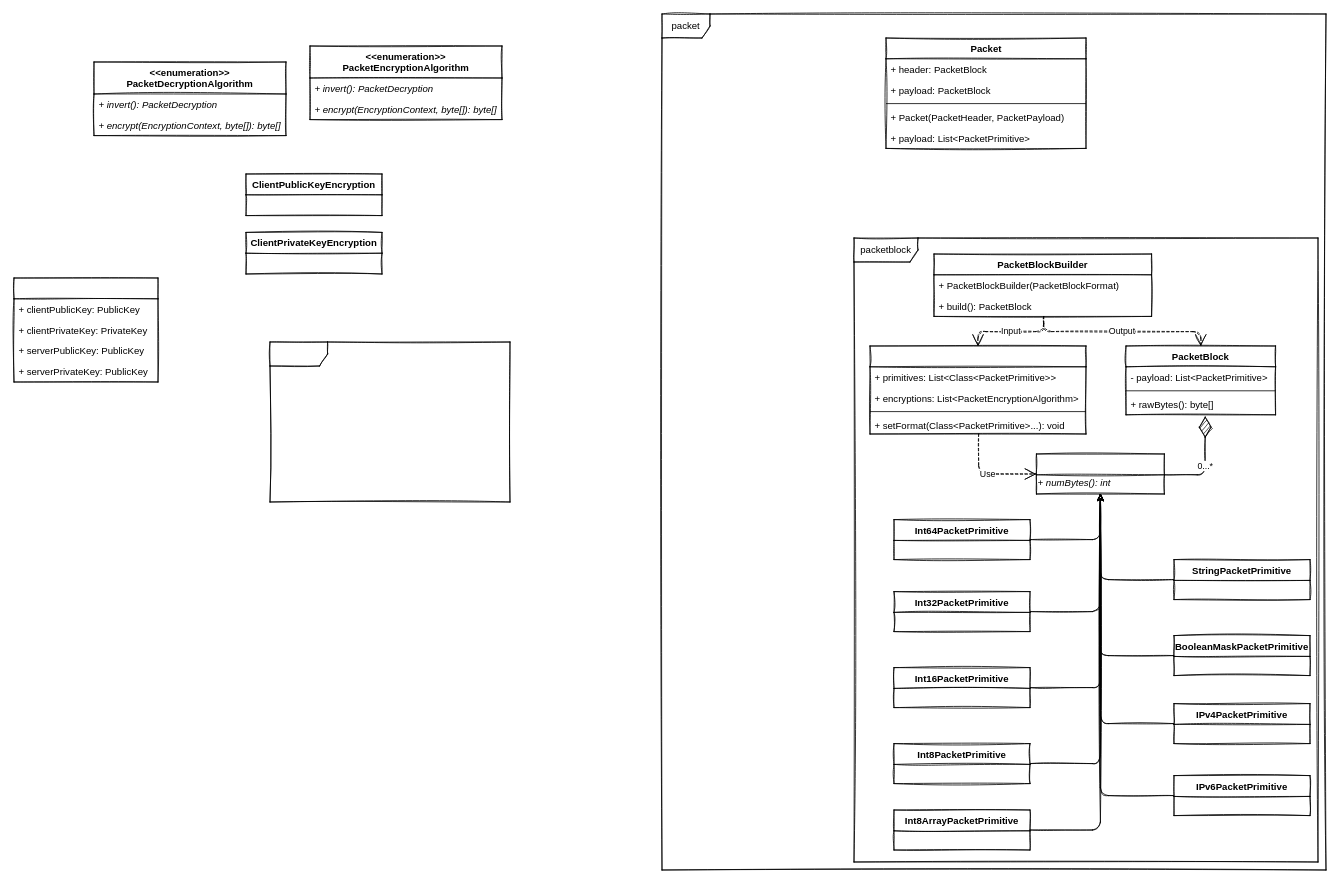
This 1340x884 diagram has some shape labels left out. The box of each missing label's shape, as (x1, y1, x2, y2) in pixels:
encryption: (269, 341, 510, 502)
EncryptionContext: (13, 277, 158, 382)
PacketBlockFormat: (869, 345, 1086, 434)
PacketPrimitive: (1036, 453, 1164, 494)
